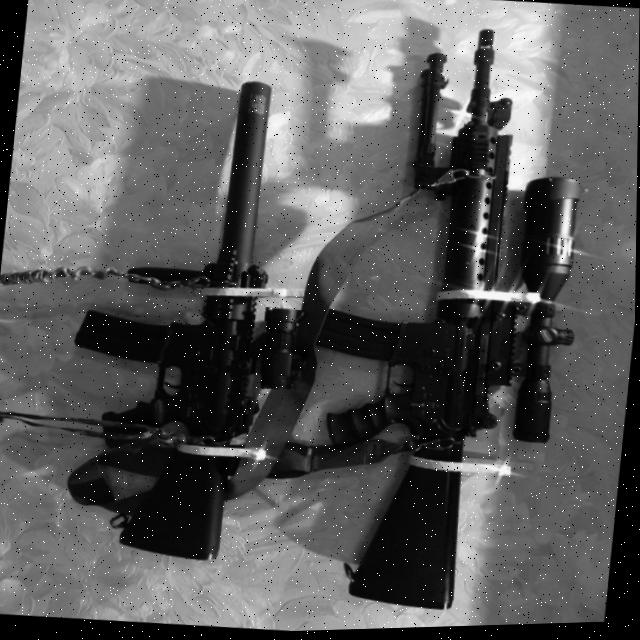firearm: (274, 15, 607, 627), (53, 69, 333, 575)
